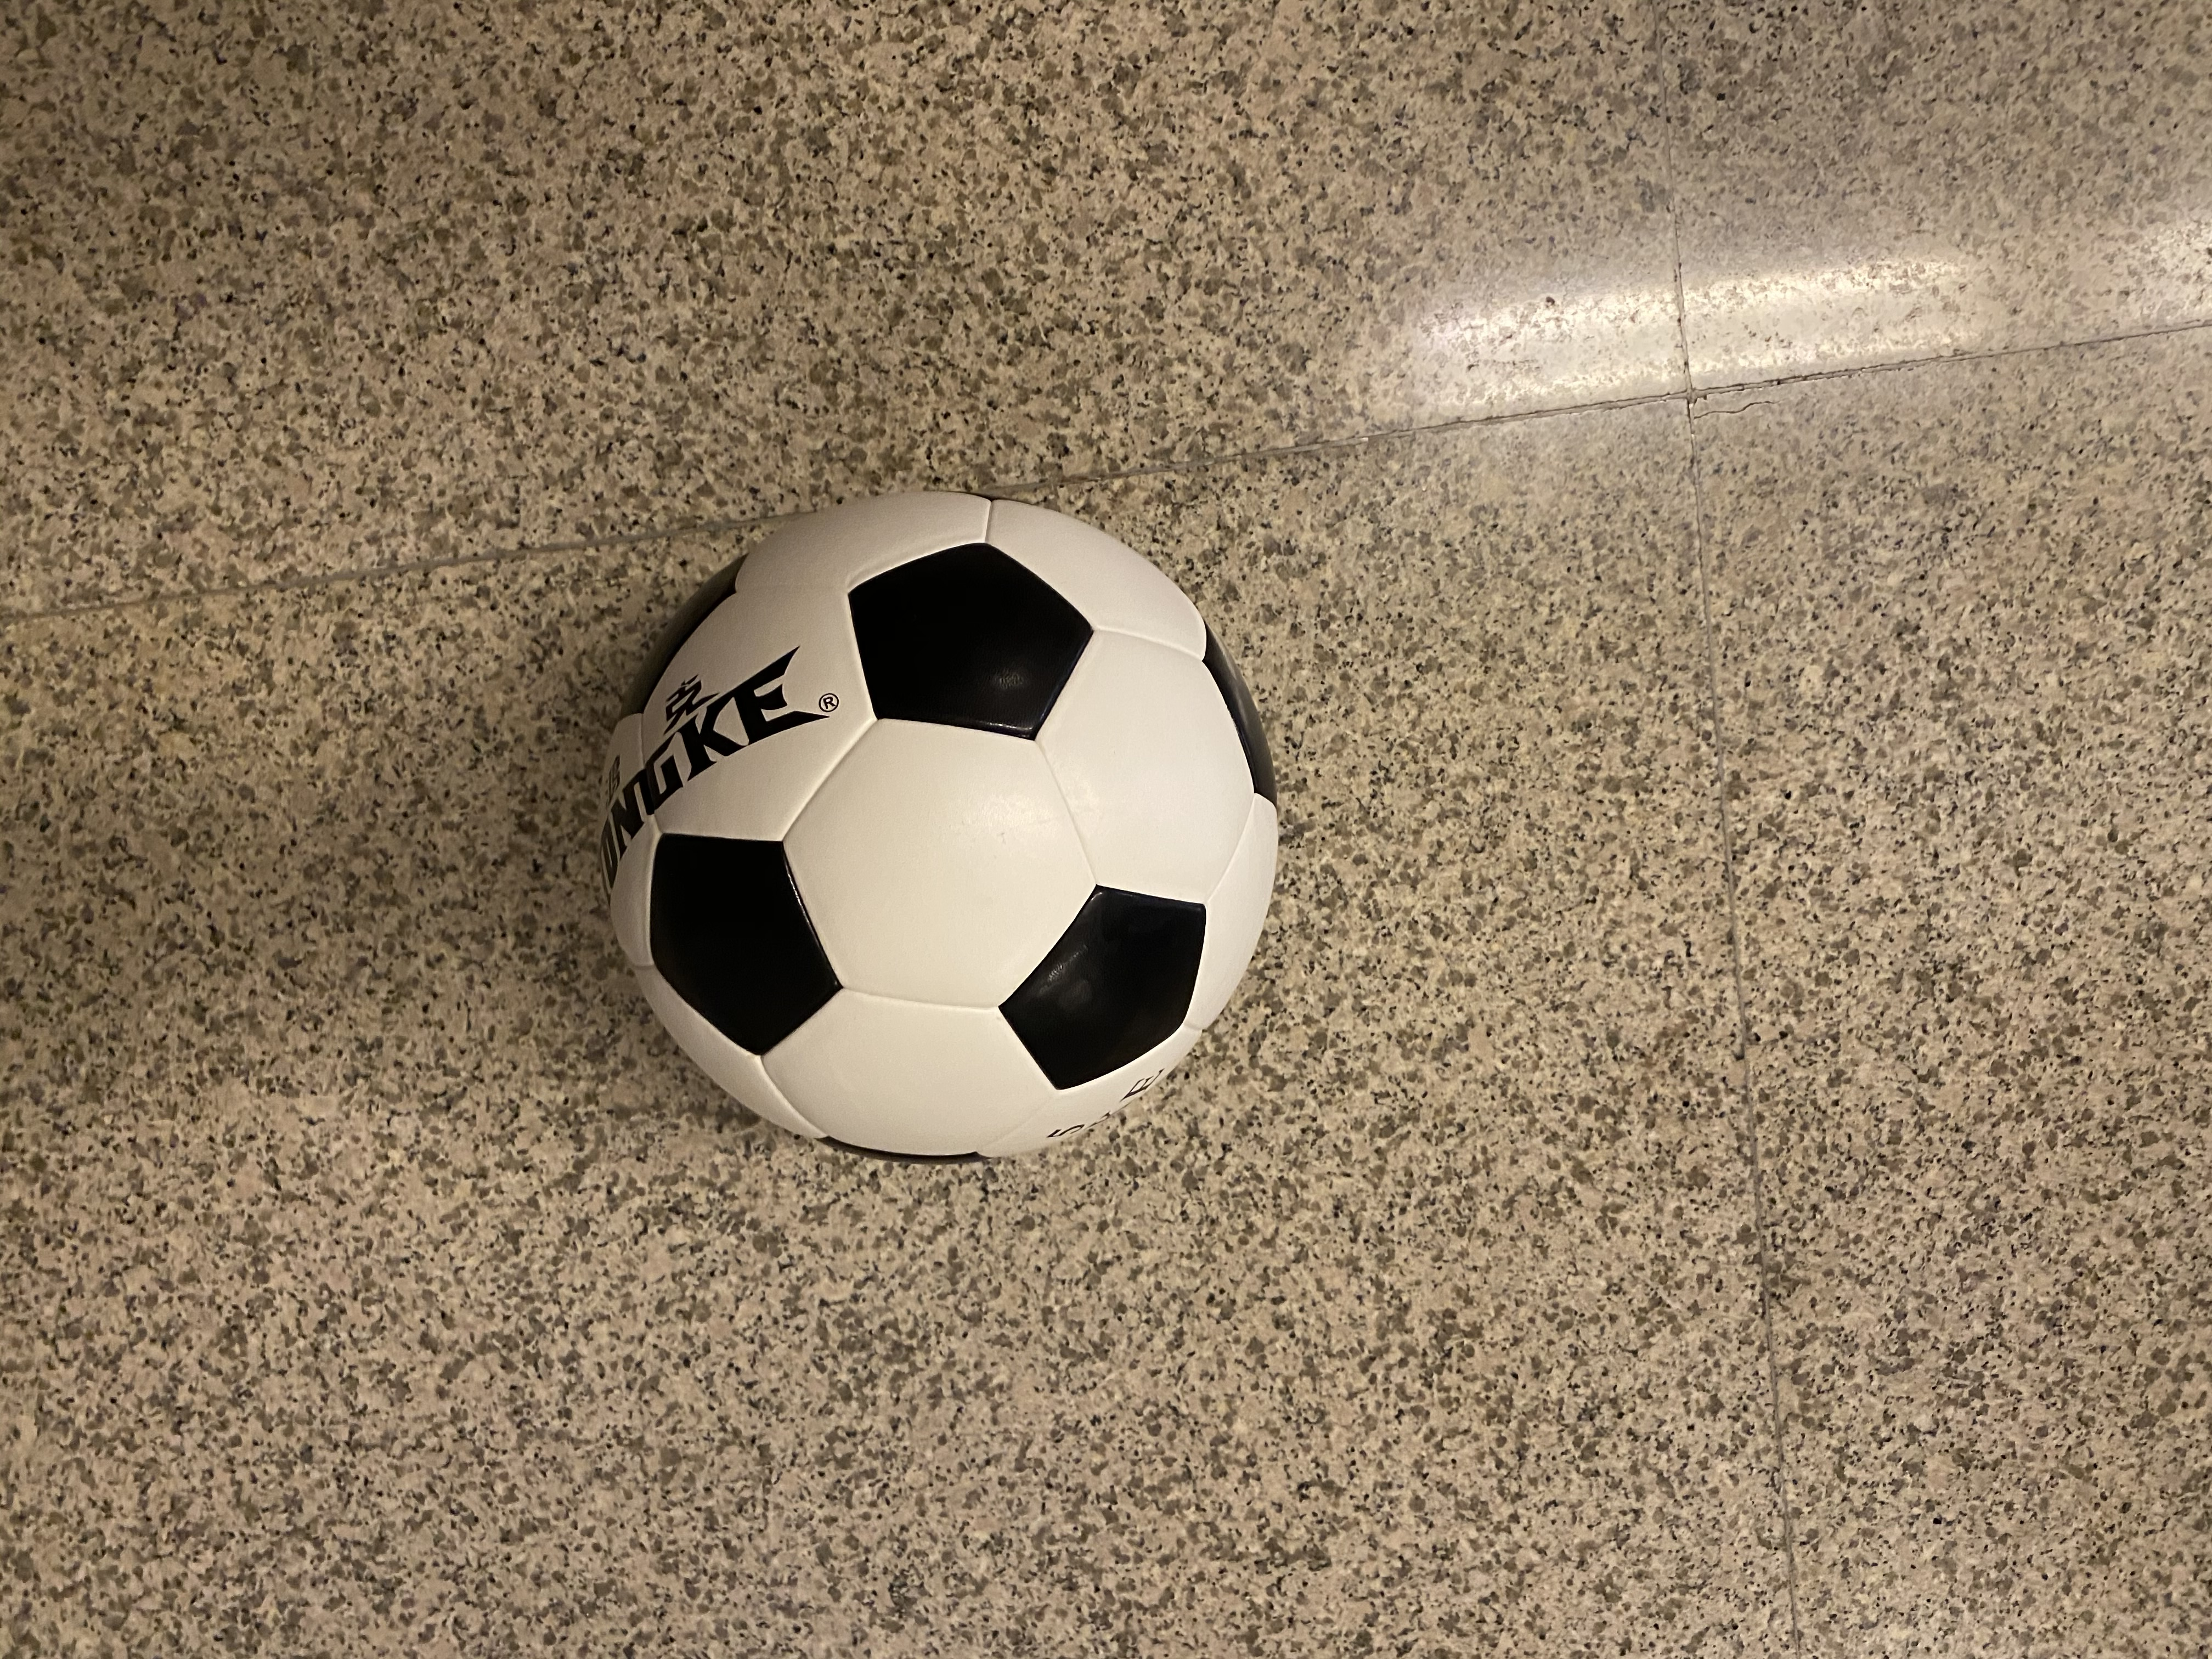football: (596, 495, 1292, 1168)
